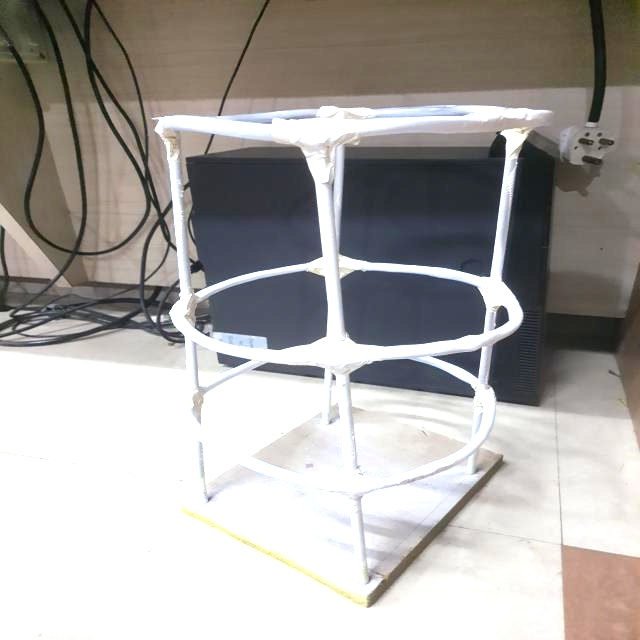silo: (148, 100, 514, 568)
